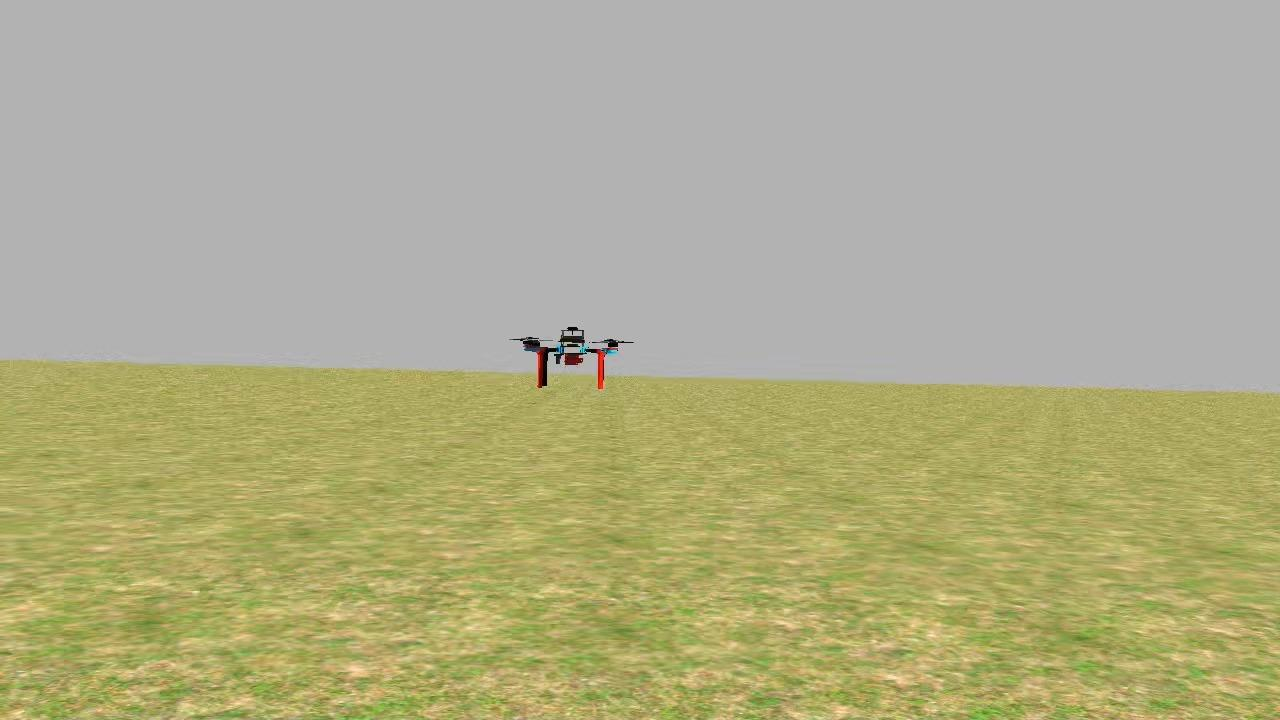UAV: (516, 324, 626, 396)
